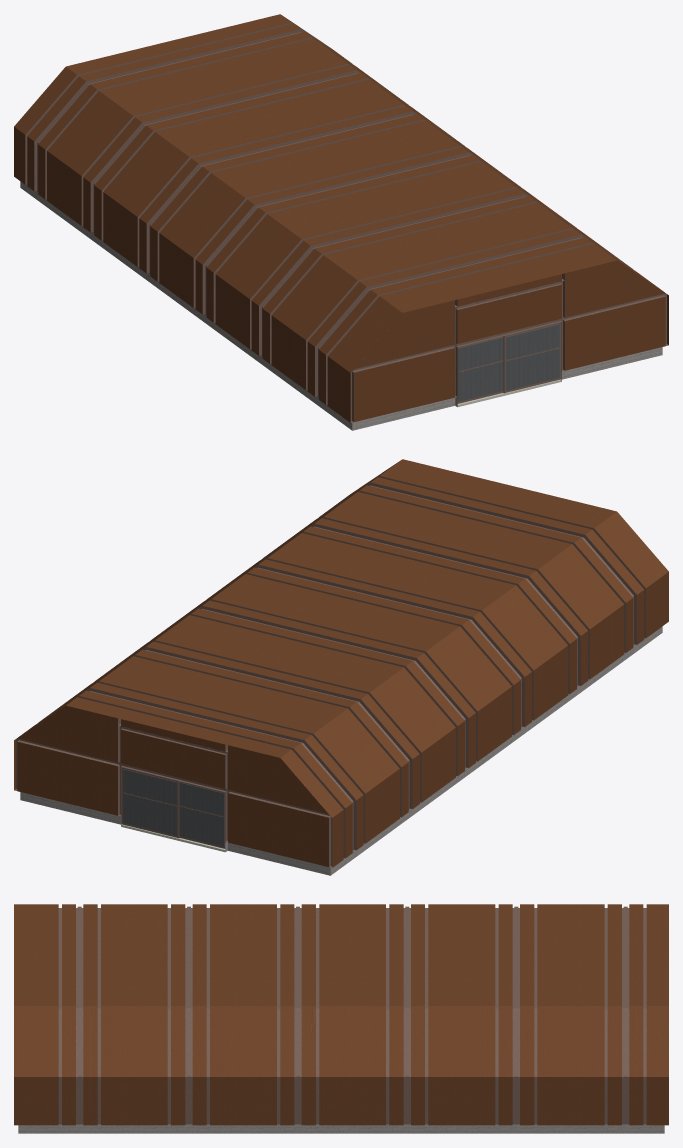
File: hangar.glb
3 renders of one model, top to bottom at view 1: azimuth 30°, elevation 25°; view 2: azimuth 150°, elevation 25°; view 3: azimuth 270°, elevation 25°, orthographic. The views are drawn at different scales.
Visible parts, largest first — view 1: Material2.013, Material2, Material2.003, Material2.012; view 2: Material2.013, Material2, Material2.003, Material2.012; view 3: Material2.013, Material2, Material2.012.
Part boxes in pixels (box(x1,y1,x2,y2)): Material2.013: box(14, 14, 668, 422); Material2: box(25, 22, 668, 422); Material2.003: box(458, 324, 559, 401); Material2.012: box(20, 181, 662, 430); Material2.013: box(14, 459, 668, 867); Material2: box(14, 476, 645, 867); Material2.003: box(123, 769, 224, 846); Material2.012: box(20, 626, 662, 875); Material2.013: box(14, 904, 668, 1125); Material2: box(58, 906, 646, 1124); Material2.012: box(18, 1124, 664, 1133).
Bounding box in the file's own units: 10.91 × 3.54 × 20.
Materials: 10 (10 with a texture image).
